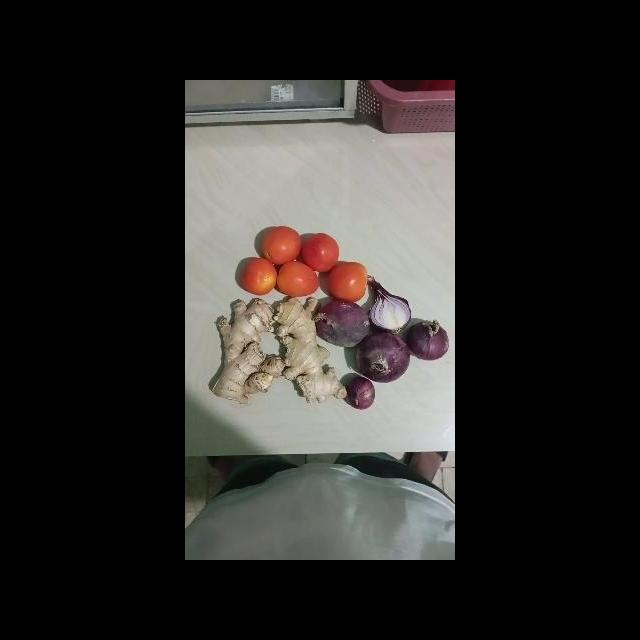ginger: (266, 293, 348, 406), (202, 295, 282, 408)
onion: (311, 295, 373, 352), (362, 270, 414, 337), (355, 330, 411, 387), (401, 315, 451, 365), (344, 373, 378, 415)
